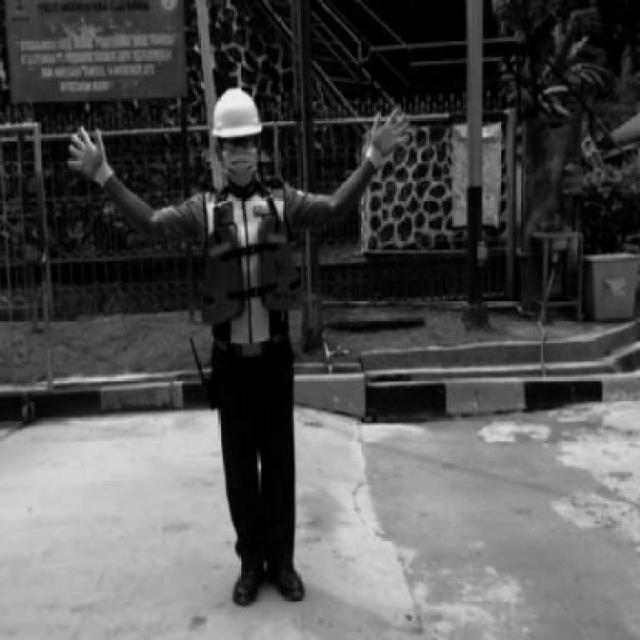Boots: (226, 542, 268, 606), (268, 541, 306, 605)
Gloves: (360, 104, 418, 170), (63, 122, 117, 186)
Helmet: (208, 86, 264, 139)
Mask: (213, 146, 264, 191)
Protective Glasses: (214, 133, 261, 150)
Vest: (199, 220, 306, 322)
